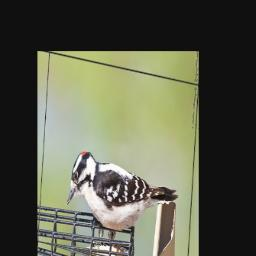Woodpecker: (64, 144, 182, 254)
